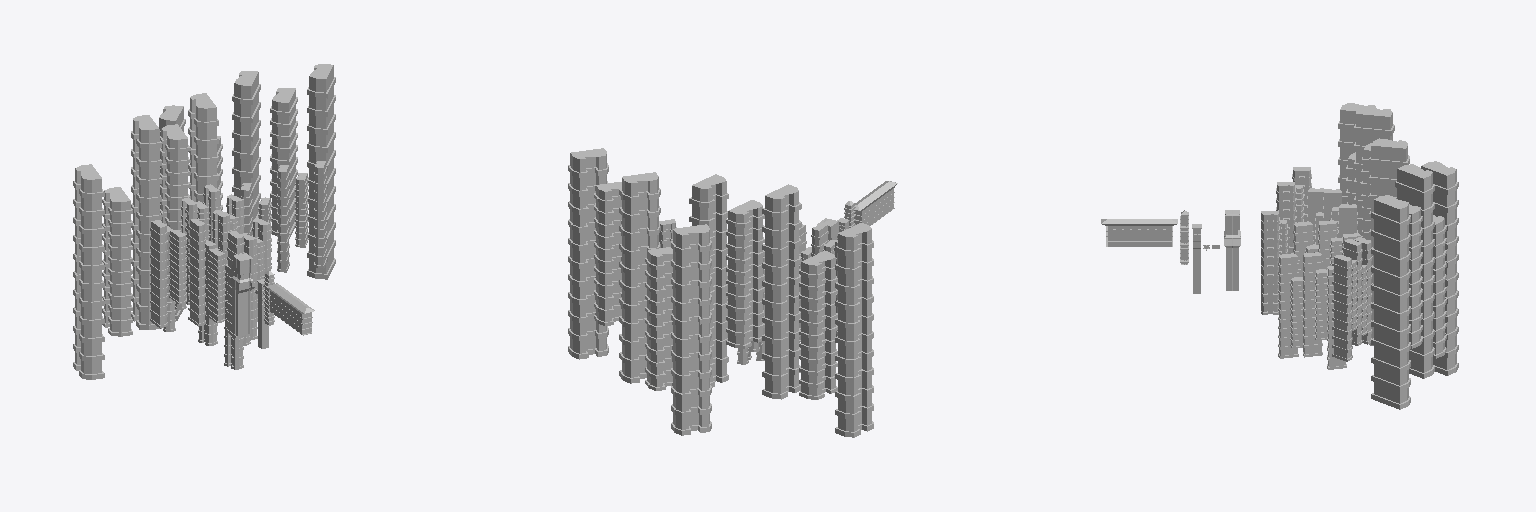
The model's file is level.obj.
3 renders of one model, left to right at view 1: azimuth 30°, elevation 25°; view 2: azimuth 150°, elevation 25°; view 3: azimuth 270°, elevation 25°, orthographic.
Parts seen in each view (by area): view 1: building_015_building_015_mesh, Cube.009, building_013_building_013_mesh; view 2: building_015_building_015_mesh, building_013_building_013_mesh; view 3: building_015_building_015_mesh, building_013_building_013_mesh, Cube.009.
Part boxes in pixels (x1,y1,x2,y2): building_015_building_015_mesh: (73,64,335,379); Cube.009: (231,253,255,336); building_013_building_013_mesh: (267,283,314,335); building_015_building_015_mesh: (568,148,873,437); building_013_building_013_mesh: (854,181,897,225); building_015_building_015_mesh: (1261,103,1458,409); building_013_building_013_mesh: (1101,219,1177,246); Cube.009: (1224,210,1240,290).
Size of the model in its own units: 833 by 645 by 919.